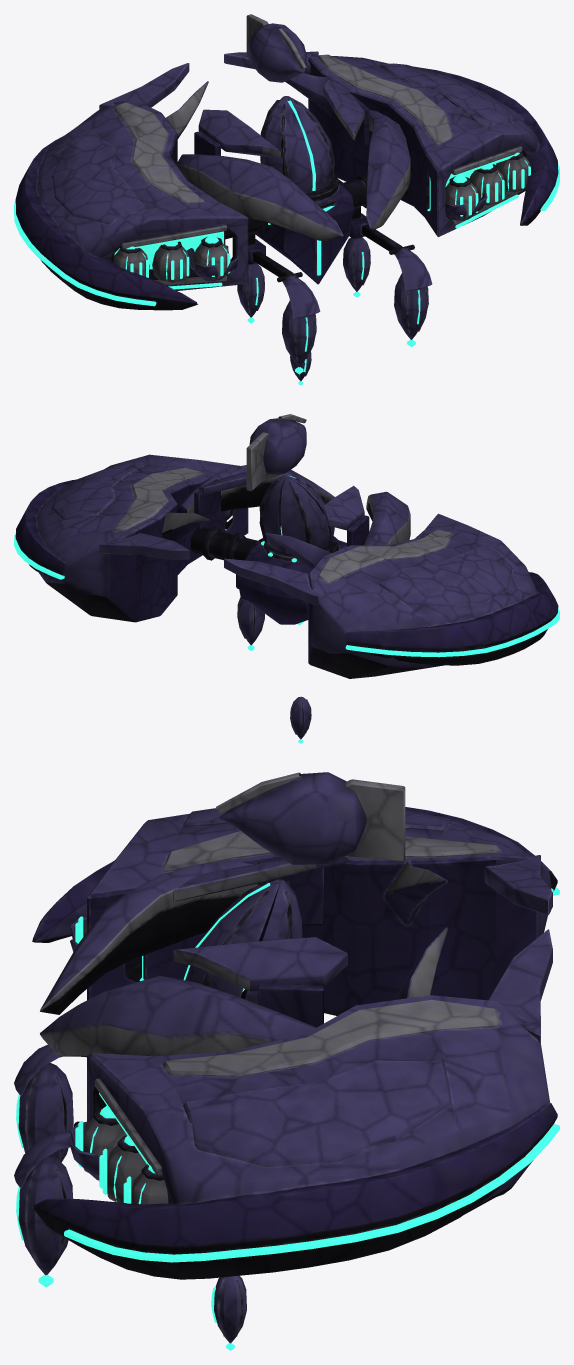
File: the-veil-v5-remodel.glb
3 views of the same model, one above another, from view 1: azimuth 30°, elevation 25°; view 2: azimuth 150°, elevation 25°; view 3: azimuth 270°, elevation 25° (orthographic). The views are drawn at different scales.
Parts seen in each view (by area): view 1: veil_hull, veil_heart_shutter_3, veil_heart_shutter_0, veil_drop_pod_2, veil_drop_pod_0, veil_drop_pod_3, veil_bay_door_left, veil_bay_door_right, veil_pod_left, veil_drop_pod_1, veil_pod_right, veil_pod_left_wreck (+1 smaller); view 2: veil_hull, veil_heart_shutter_2, veil_heart_shutter_1, veil_drop_pod_3, veil_flight_pod, veil_heart_shutter_3; view 3: veil_hull, veil_drop_pod_2, veil_drop_pod_0, veil_heart_shutter_0, veil_flight_pod, veil_heart_shutter_1, veil_pod_right, veil_bay_door_right, veil_bay_door_left.
Boxes of the visible parts, left/top/right/bottom form: veil_hull: left=14, top=14, right=559, bottom=310; veil_heart_shutter_3: left=264, top=97, right=314, bottom=193; veil_heart_shutter_0: left=286, top=96, right=334, bottom=191; veil_drop_pod_2: left=394, top=273, right=428, bottom=346; veil_drop_pod_0: left=282, top=300, right=316, bottom=374; veil_drop_pod_3: left=343, top=237, right=370, bottom=297; veil_bay_door_left: left=277, top=272, right=320, bottom=318; veil_bay_door_right: left=389, top=244, right=432, bottom=290; veil_pod_left: left=193, top=235, right=230, bottom=279; veil_drop_pod_1: left=237, top=263, right=264, bottom=323; veil_pod_right: left=445, top=175, right=478, bottom=219; veil_pod_left_wreck: left=187, top=245, right=238, bottom=281; veil_hull: left=14, top=414, right=559, bottom=678; veil_heart_shutter_2: left=280, top=477, right=330, bottom=554; veil_heart_shutter_1: left=259, top=476, right=285, bottom=552; veil_drop_pod_3: left=237, top=597, right=264, bottom=650; veil_flight_pod: left=290, top=696, right=311, bottom=743; veil_heart_shutter_3: left=286, top=475, right=334, bottom=548; veil_hull: left=32, top=772, right=559, bottom=1279; veil_drop_pod_2: left=16, top=1155, right=72, bottom=1287; veil_drop_pod_0: left=16, top=1063, right=73, bottom=1162; veil_heart_shutter_0: left=184, top=881, right=279, bottom=997; veil_flight_pod: left=211, top=1275, right=246, bottom=1350; veil_heart_shutter_1: left=244, top=881, right=302, bottom=1003; veil_pod_right: left=75, top=1105, right=126, bottom=1176; veil_bay_door_right: left=14, top=1121, right=79, bottom=1188; veil_bay_door_left: left=14, top=1044, right=62, bottom=1096.
Size of the model in its own units: 12.48 by 8.16 by 6.99.
2 materials, 1 textured.
